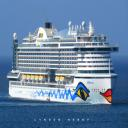cruises: (7, 17, 121, 109)
